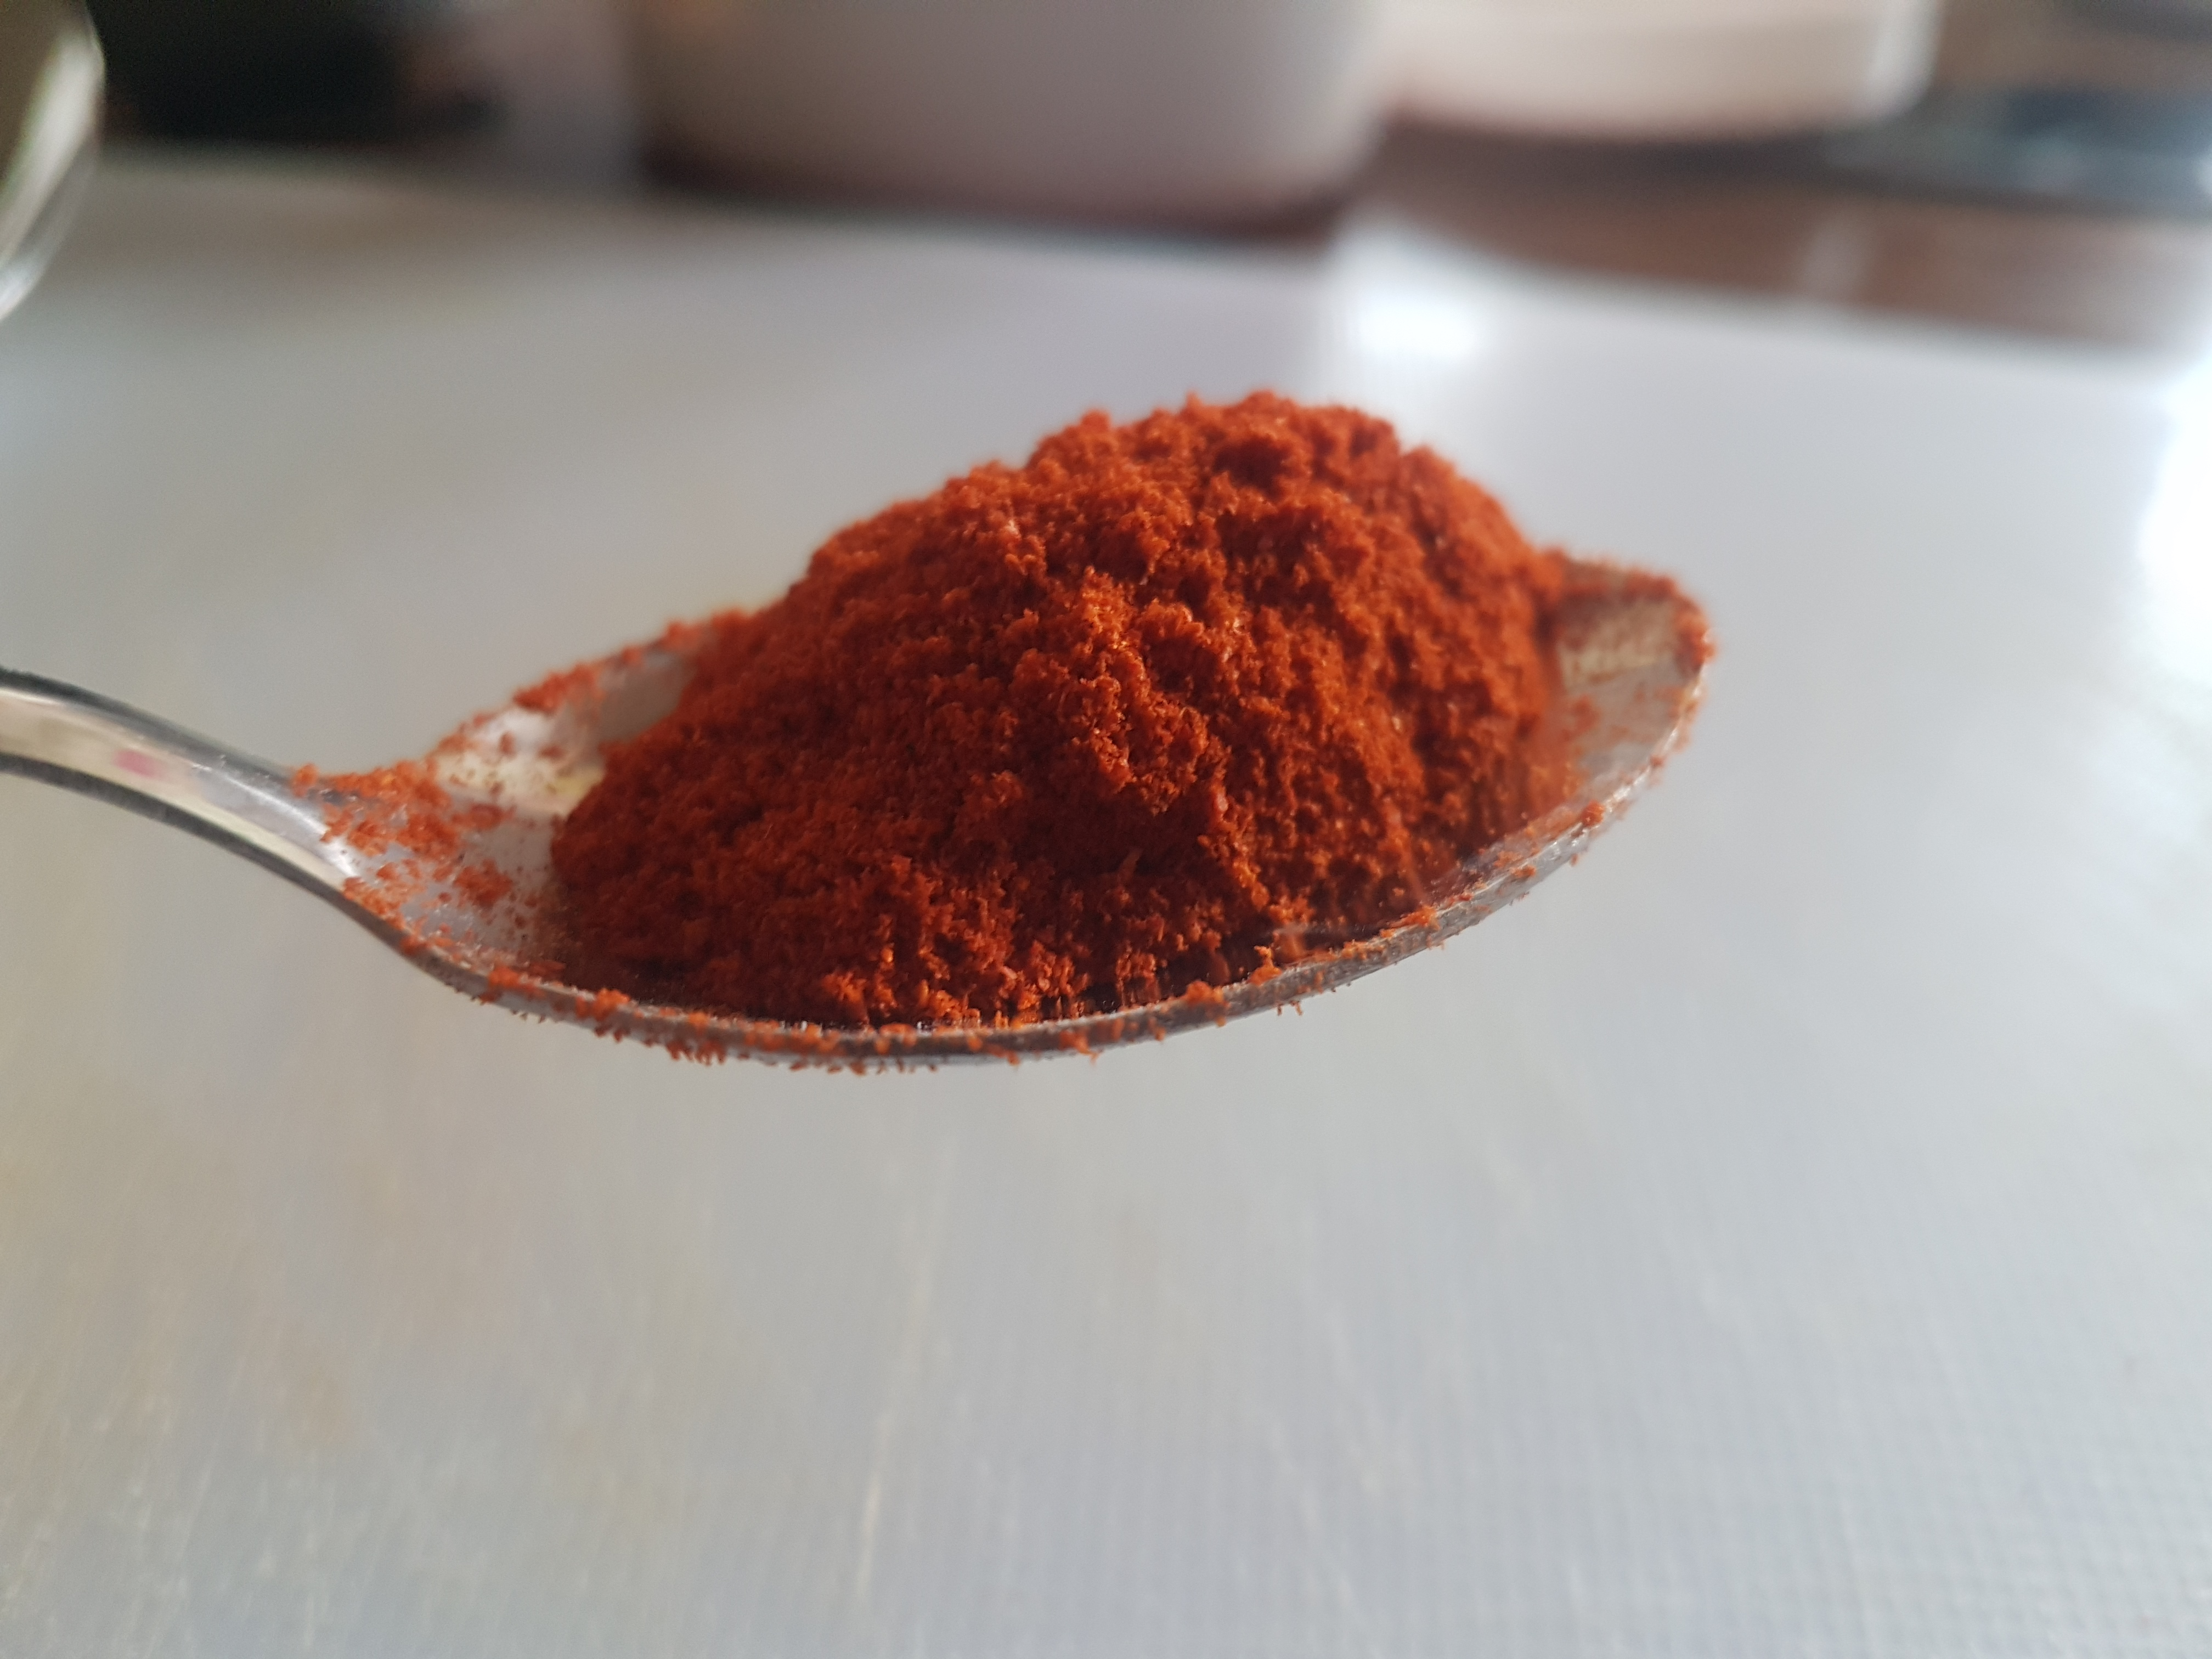Red chilli: (517, 338, 1747, 1101)
